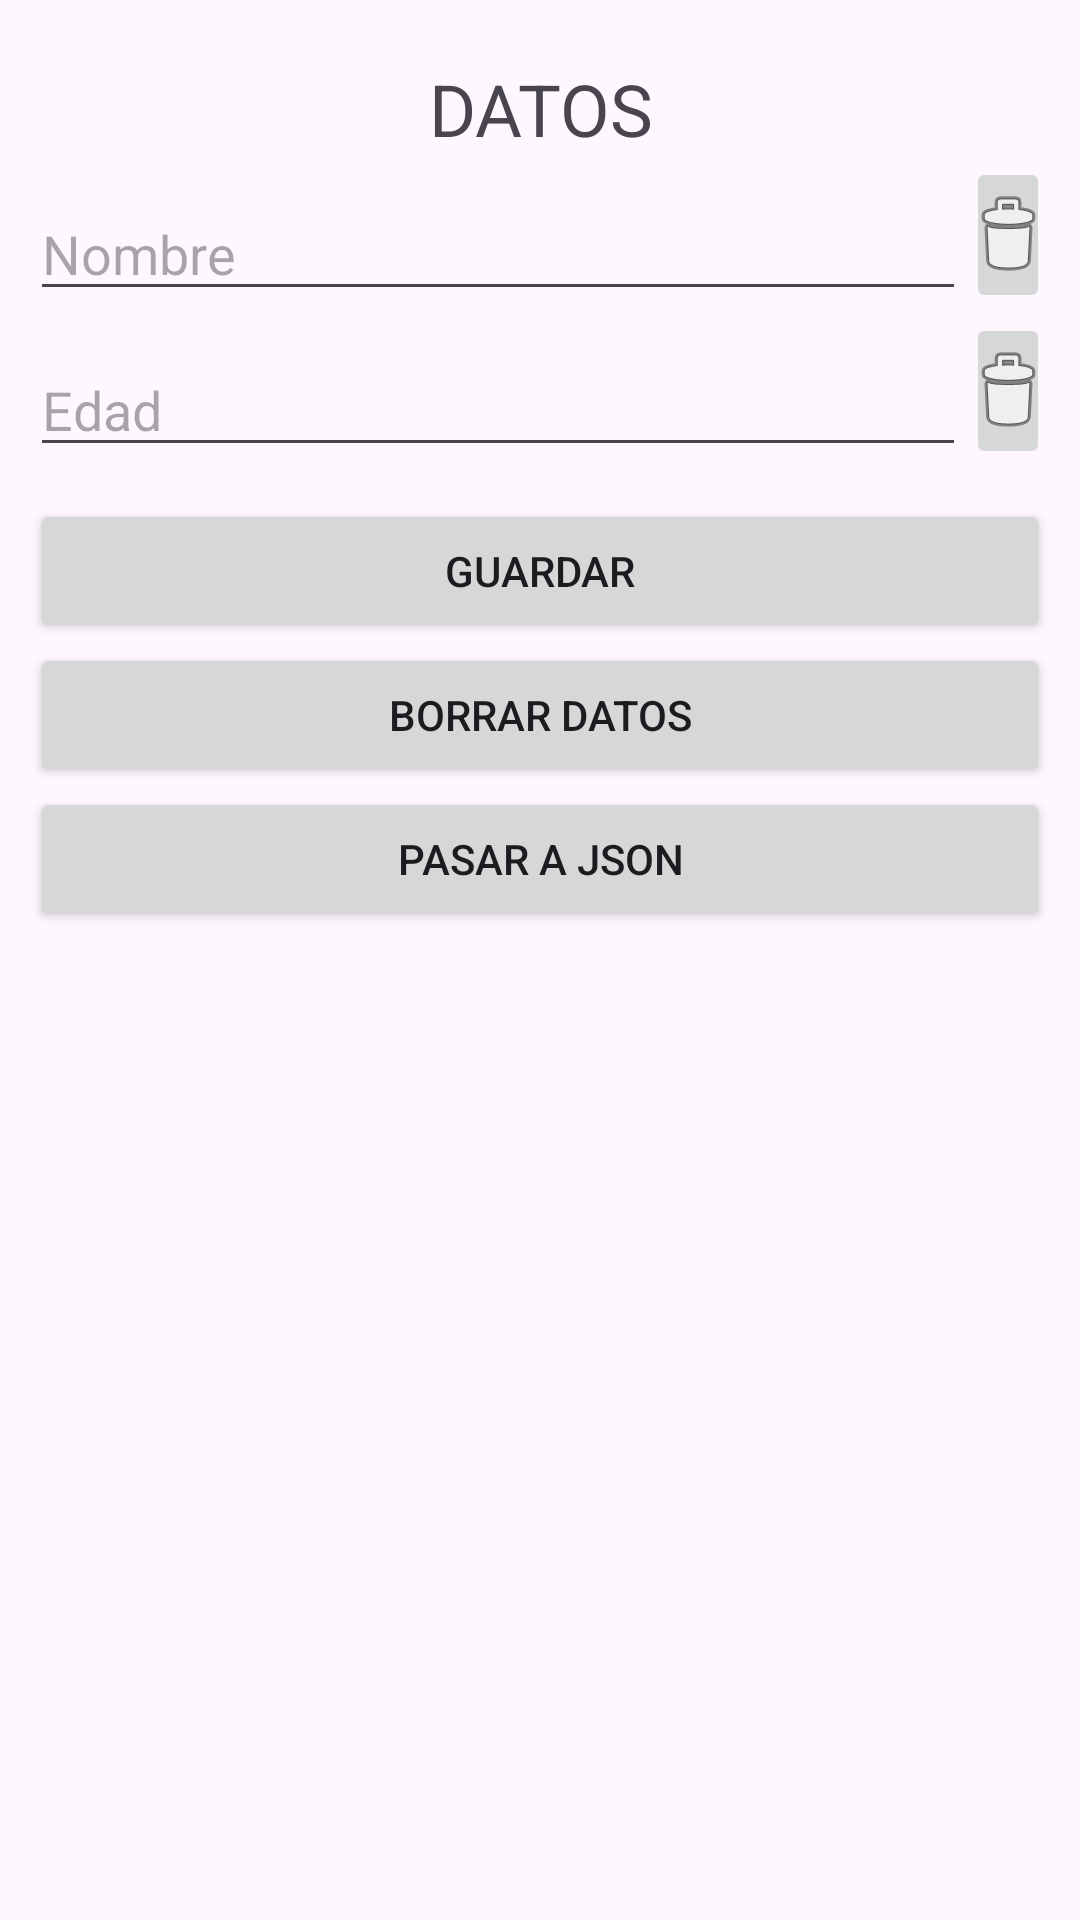

Icon click points for this 1080px x 1920px phone screenshot, format (x,y):
delete: (1008,235), (1008,391)
